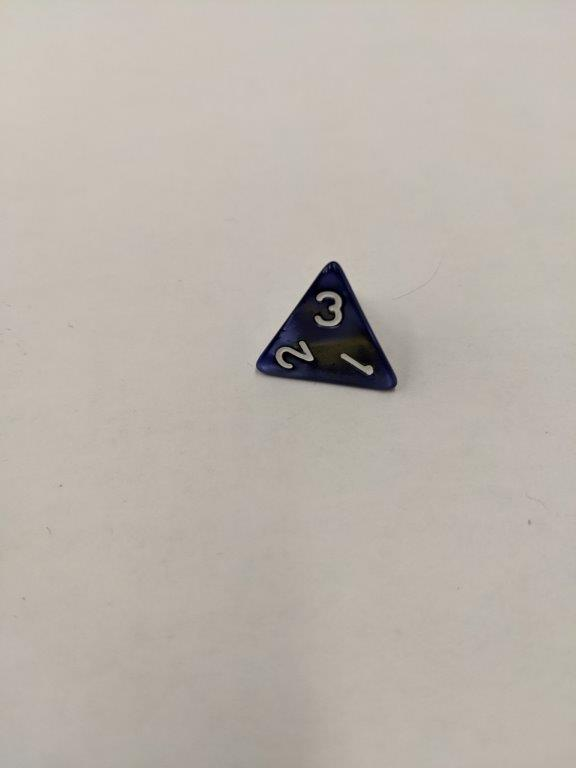d4-3: (255, 259, 400, 397)
